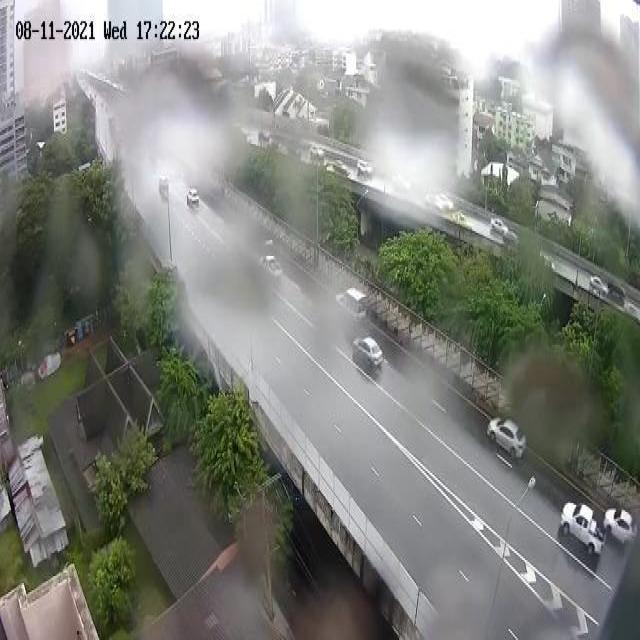Car: (486, 416, 528, 459), (604, 505, 638, 545), (353, 338, 383, 372), (590, 272, 608, 294), (491, 218, 508, 235), (187, 188, 200, 210)
Truck: (559, 501, 606, 558), (336, 284, 368, 324)
